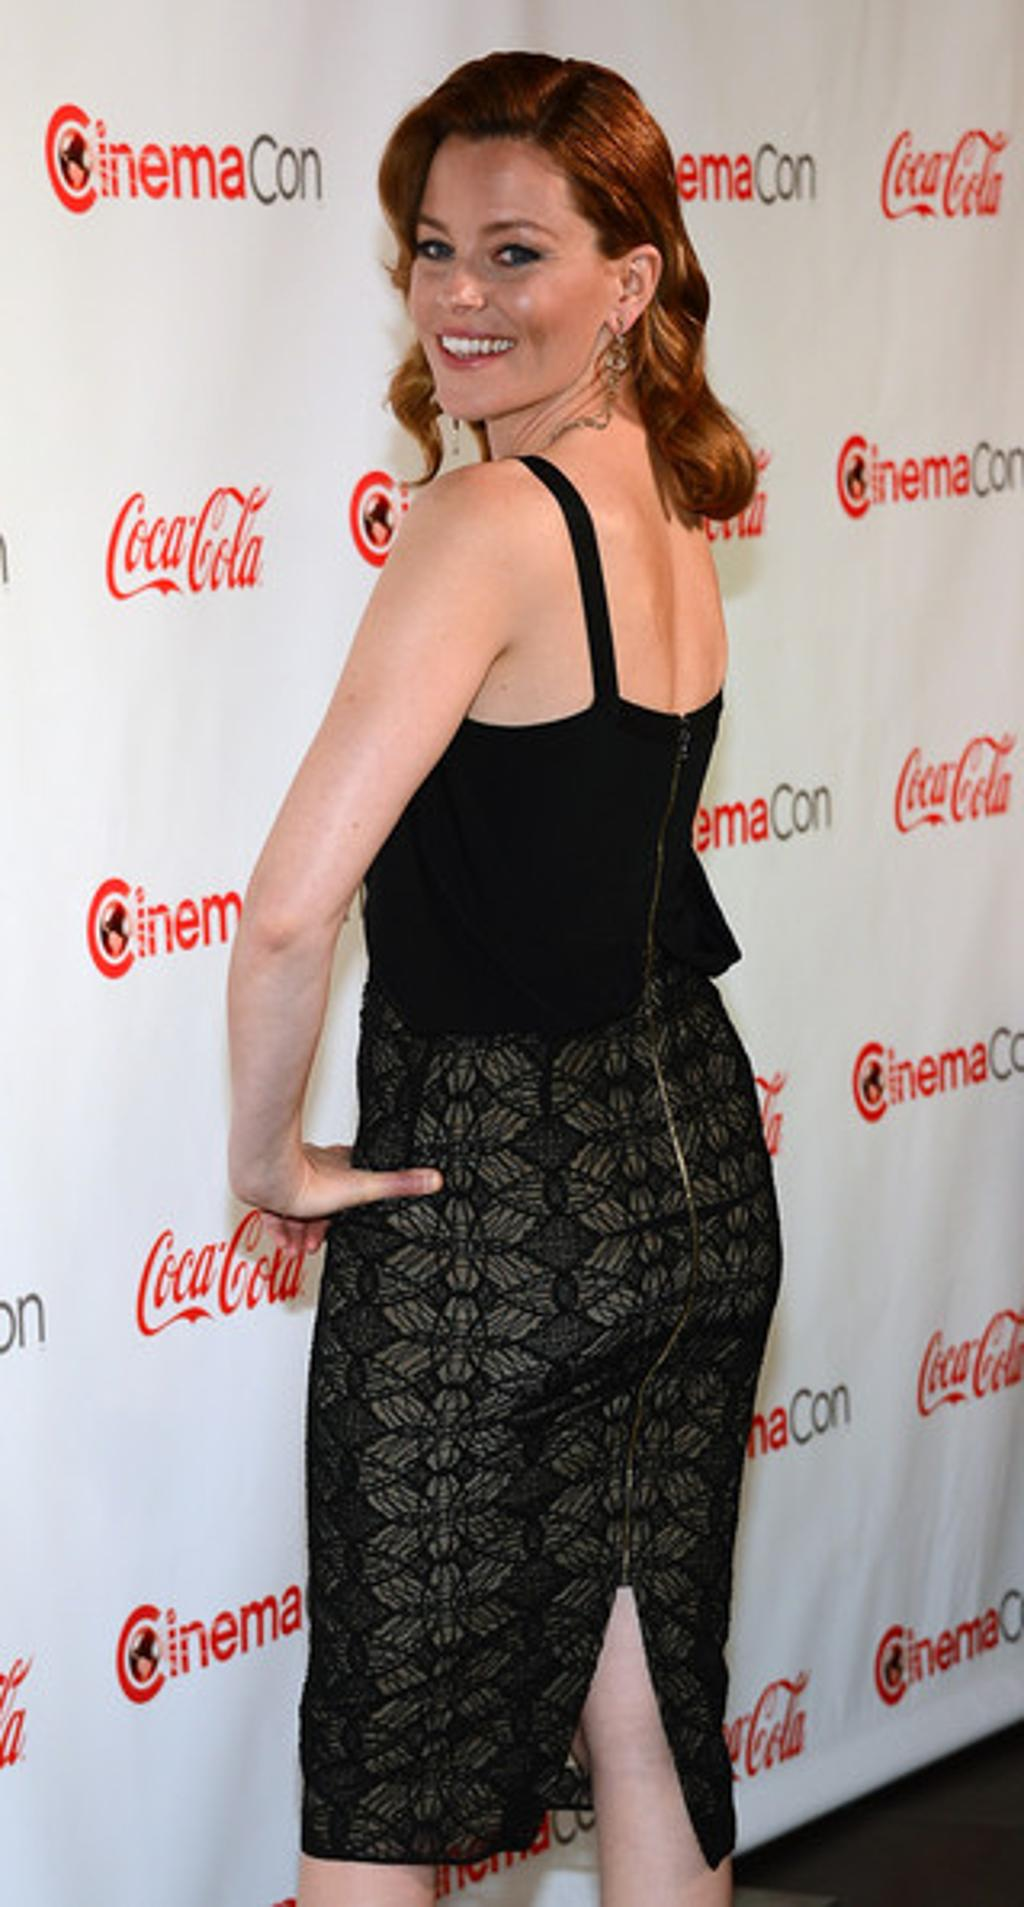face: (410, 108, 607, 421)
